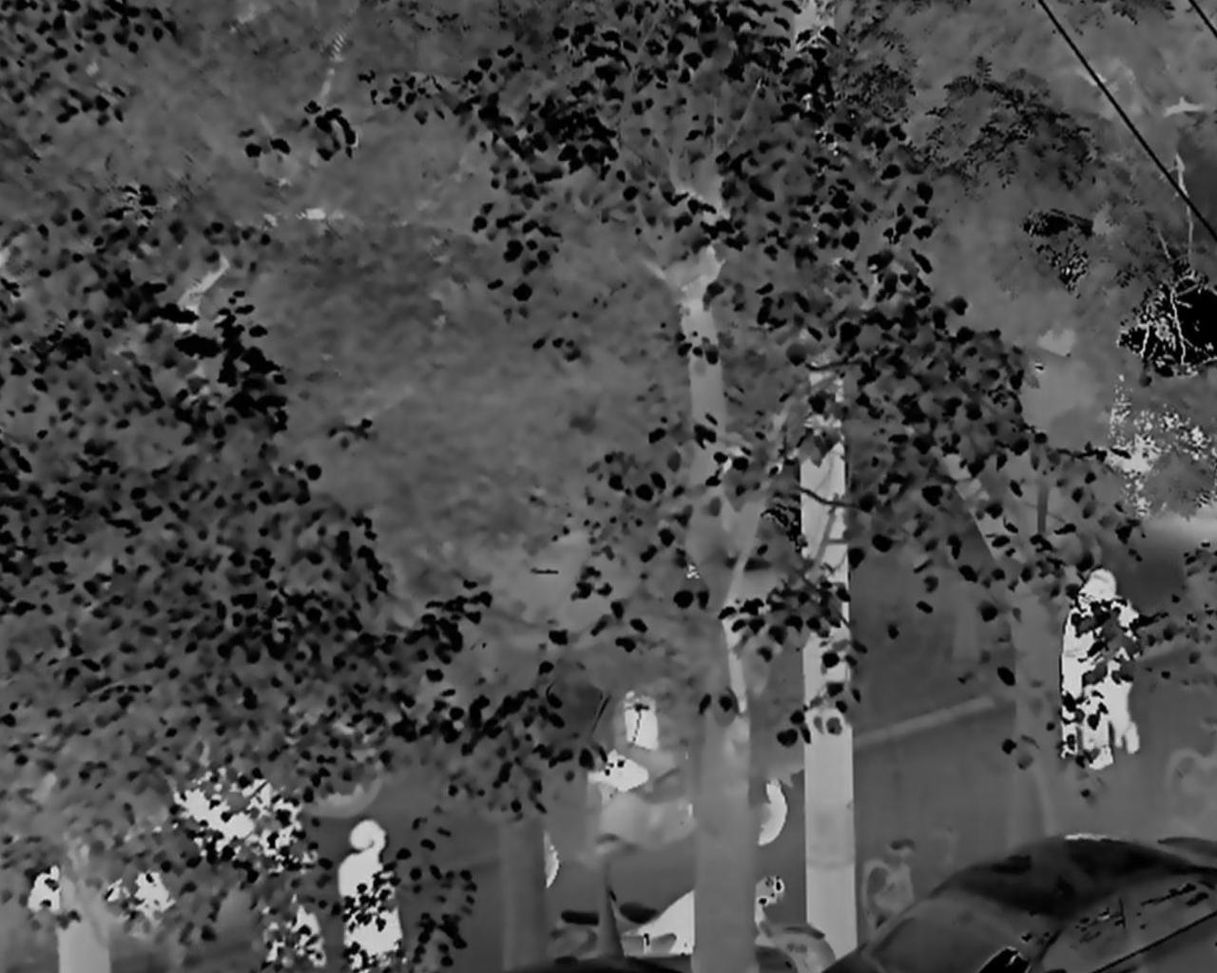person: (337, 820, 406, 973), (1090, 571, 1141, 768), (260, 841, 325, 973), (1062, 575, 1097, 758)
